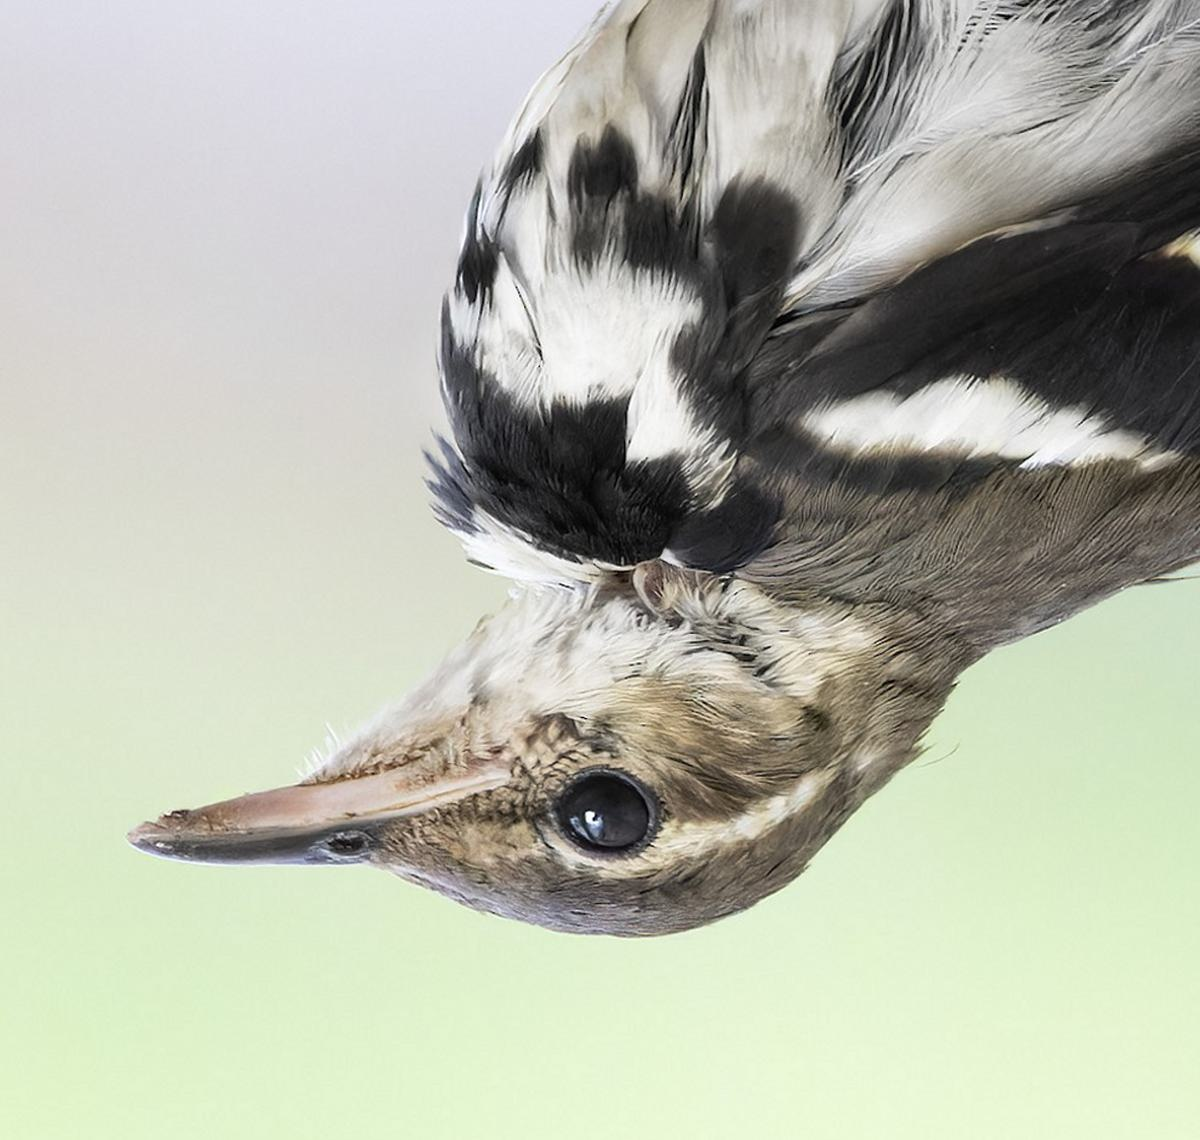wagtail: (93, 37, 1200, 926)
